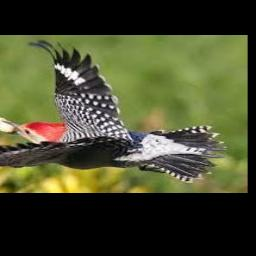Woodpecker: (0, 39, 227, 183)
